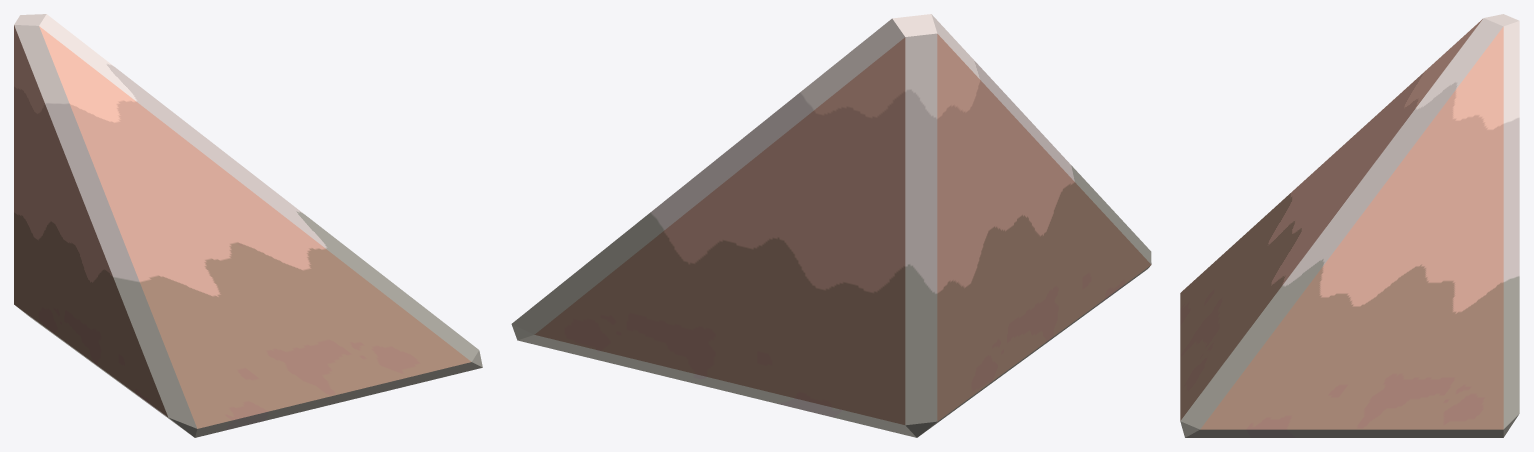
Rendered from R4B_CornerWedge_LOD1.glb.
3 renders of one model, left to right at view 1: azimuth 30°, elevation 25°; view 2: azimuth 150°, elevation 25°; view 3: azimuth 270°, elevation 25°, orthographic. The views are drawn at different scales.
Parts seen in each view (by area): view 1: R4B_CornerWedge_LOD1; view 2: R4B_CornerWedge_LOD1; view 3: R4B_CornerWedge_LOD1.
Boxes of the visible parts, box(x1,y1,x2,y2) form: R4B_CornerWedge_LOD1: box(14, 14, 482, 437); R4B_CornerWedge_LOD1: box(511, 14, 1151, 437); R4B_CornerWedge_LOD1: box(1180, 14, 1519, 437).
Bounding box in the file's own units: 0.503 × 0.4666 × 0.503.
Materials: 2 (2 with a texture image).
